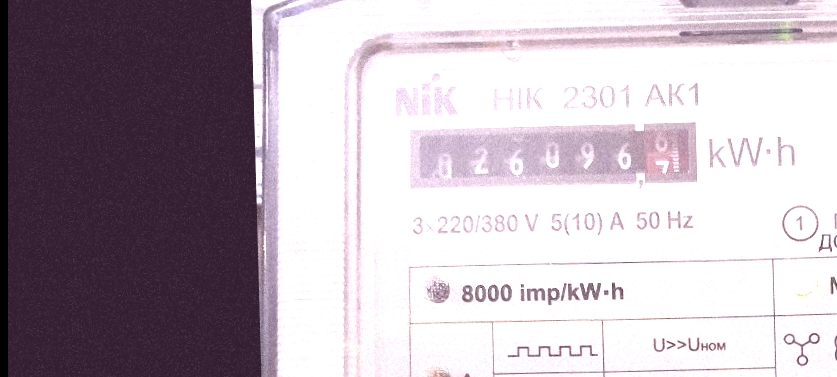0: (542, 137, 563, 173), (434, 148, 455, 181)
2: (470, 143, 492, 179)
6: (507, 144, 527, 180), (615, 138, 634, 172), (652, 127, 671, 155)
7: (653, 156, 672, 178)
9: (578, 139, 598, 172)
screen: (399, 112, 706, 201)
